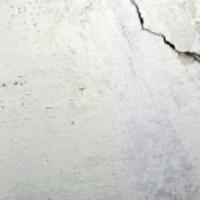crack: (118, 0, 199, 75)
